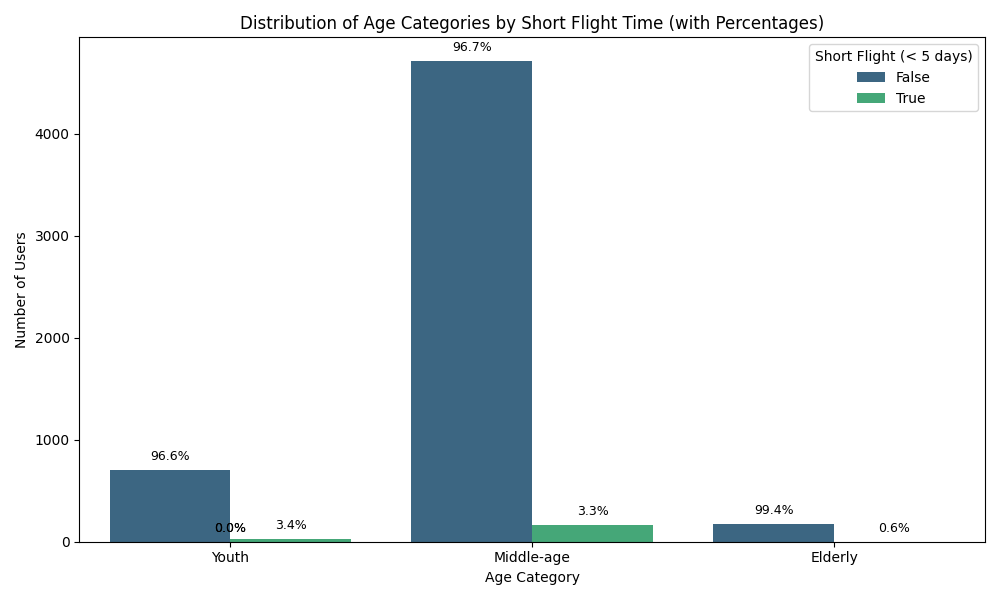

What the dashboard file says about the page in this screenshot:
{"tool":"tableau","page":{"name":"Dashboard 1","canvas":[1000,1000],"units":"permille","ordinal":0},"visuals":[{"type":"worksheet","title":"Sheet 1","mark":"Automatic","rows":["uplift"],"cols":["p_book"],"box":[12.3,17.4,975.4,965.2]},{"type":"legend","title":"Sheet 1","param":"[federated.0yfk4w905r5pt410jgrqf1fc18nl].[none:decision:nk]","box":[176.9,143.5,312.3,237]}]}

Visuals, with their boxes on the dashboard's canvas, which has no fixed pixel size, in thousandths of its width and height (x1, y1, x2, y2). These are canvas units, not pixel positions in the 1000x600 screenshot, which may show the page scaled, cropped or inside an application window:
"Sheet 1" worksheet: <bbox>12, 17, 988, 983</bbox>
"Sheet 1" legend: <bbox>177, 144, 489, 380</bbox>
